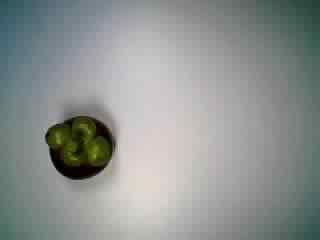mangosteen: (42, 109, 116, 181)
